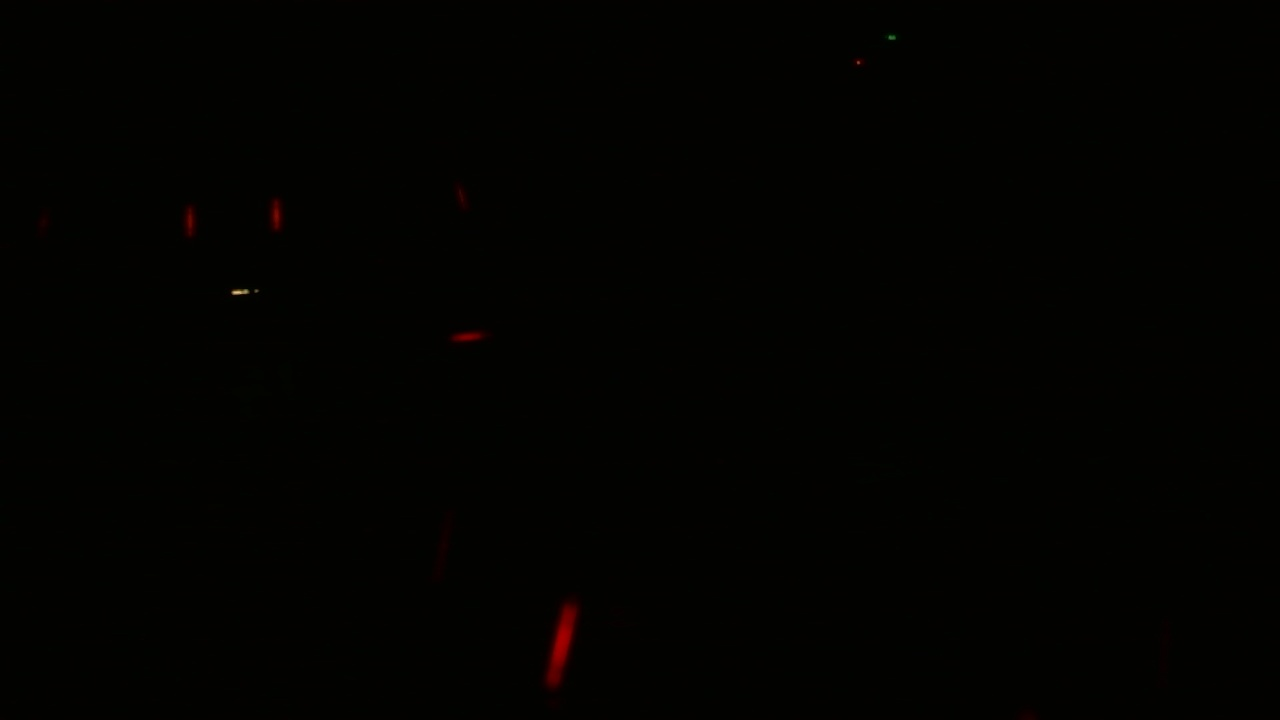pair1: (180, 193, 286, 233)
